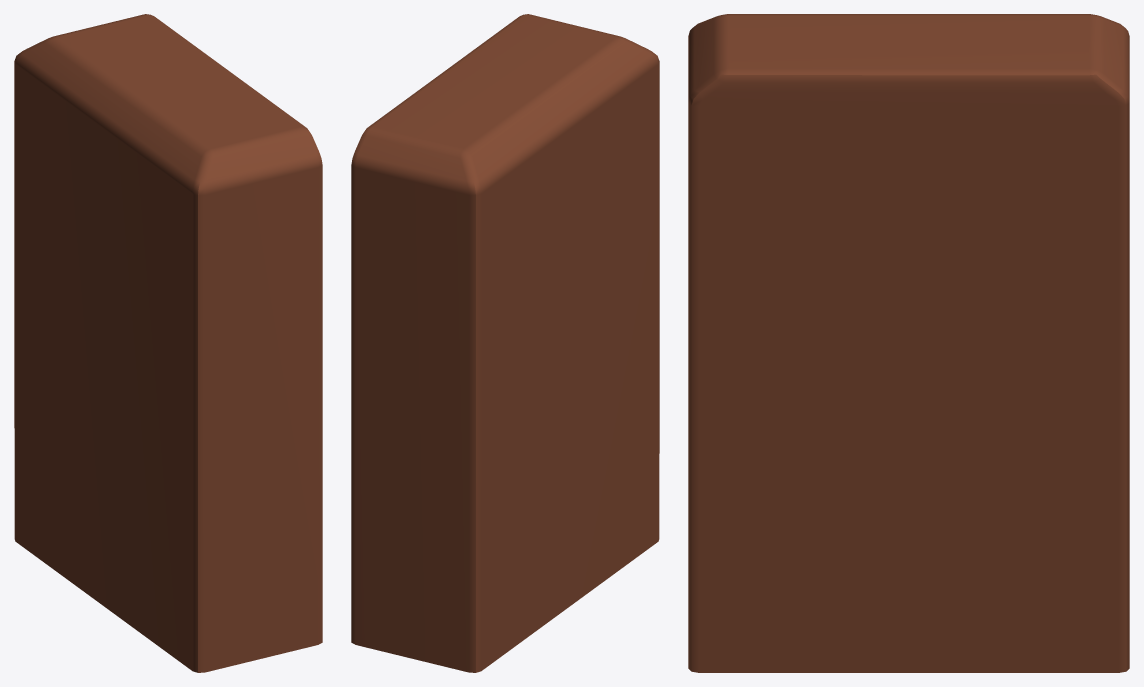
File: Wall_03.fbx
The picture shows the model from 3 angles, left to right: view 1: azimuth 30°, elevation 25°; view 2: azimuth 150°, elevation 25°; view 3: azimuth 270°, elevation 25°; orthographic projection. The views are drawn at different scales.
Parts seen in each view (by area): view 1: Wall; view 2: Wall; view 3: Wall.
Boxes of the visible parts, x1,y1,x2,y2 form: Wall: [14, 14, 322, 672]; Wall: [351, 14, 659, 672]; Wall: [688, 14, 1129, 672].
Size of the model in its own units: 0.4005 by 1.5 by 1.
1 material, 1 textured.
